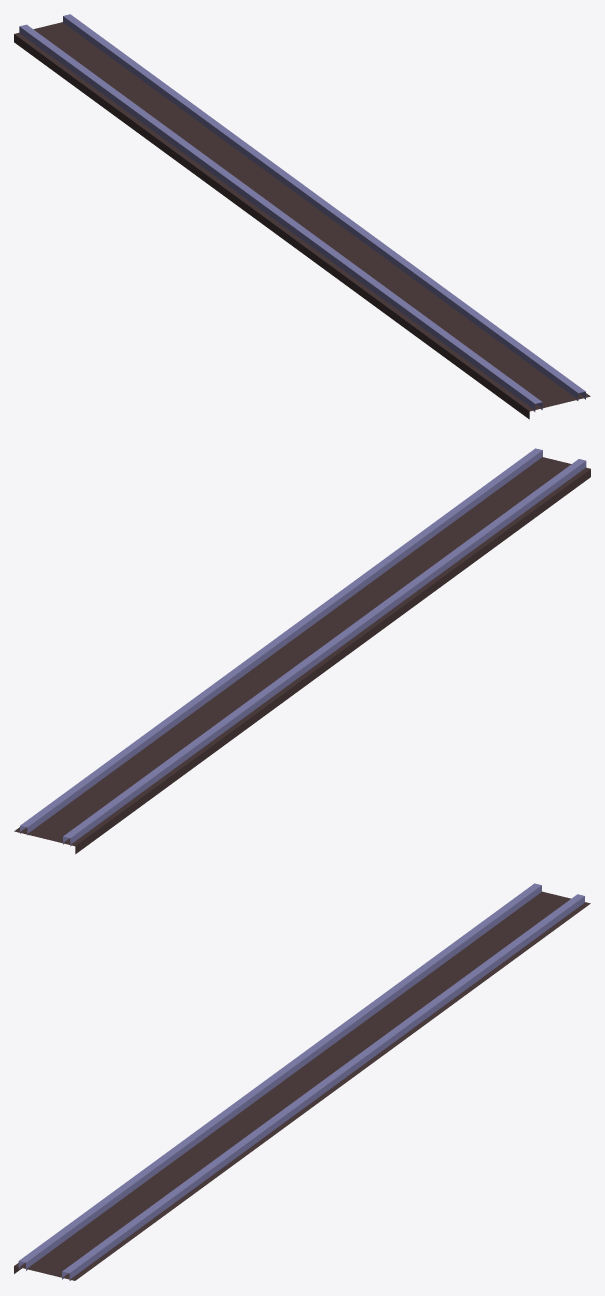
The model's file is Rails.obj.
The picture shows the model from 3 angles, top to bottom: view 1: azimuth 30°, elevation 25°; view 2: azimuth 150°, elevation 25°; view 3: azimuth 330°, elevation 25°; orthographic projection.
Visible parts, largest first — view 1: Cube.001_Cube.002, Cube.002_Cube.003, Cube; view 2: Cube.001_Cube.002, Cube.002_Cube.003, Cube; view 3: Cube.001_Cube.002, Cube.002_Cube.003, Cube.
Boxes of the visible parts, bbox=[...] form: Cube.001_Cube.002: bbox=[14, 22, 590, 419]; Cube.002_Cube.003: bbox=[19, 24, 542, 411]; Cube: bbox=[63, 14, 585, 400]; Cube.001_Cube.002: bbox=[14, 457, 590, 854]; Cube.002_Cube.003: bbox=[63, 459, 586, 846]; Cube: bbox=[20, 448, 542, 835]; Cube.001_Cube.002: bbox=[14, 891, 590, 1280]; Cube.002_Cube.003: bbox=[18, 883, 541, 1270]; Cube: bbox=[62, 894, 584, 1280].
Bounding box in the file's own units: 2 × 0.4658 × 29.21.
